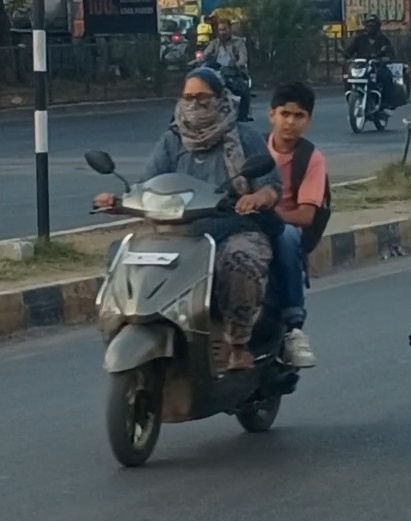BikeWithRider: (75, 63, 339, 473), (334, 9, 410, 136)
NoHelmet: (165, 66, 237, 150), (262, 75, 322, 147)
